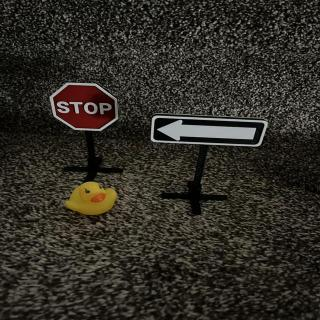duck_regular: (65, 180, 119, 217)
sign_oneway_left: (151, 115, 269, 151)
sign_stop: (51, 84, 121, 136)
